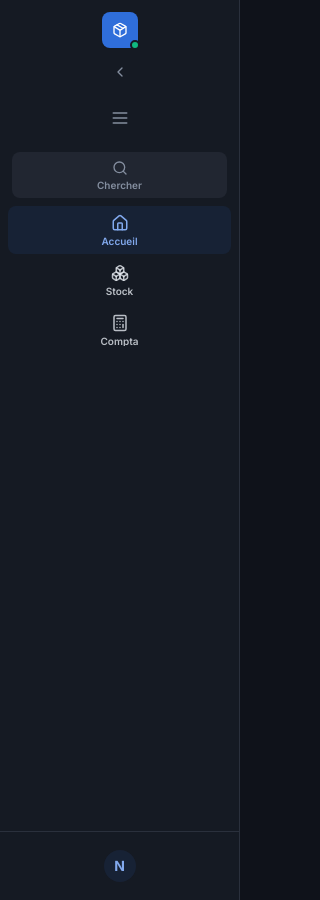
Scenario: menu on an iPad in portrait (810 px) › offers the assistant in the account menu
Step 1. Click the button named "Compte" → (120, 866), box x1=12 y1=844 x2=227 y2=888
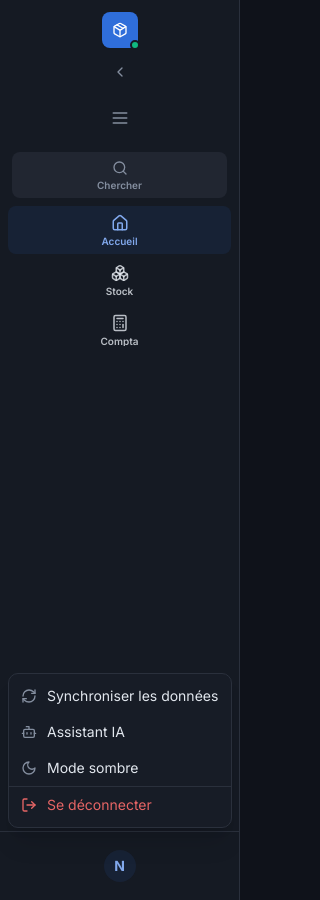
Expected: the menu item "Assistant IA" is shown, x1=9 y1=714 x2=231 y2=750
